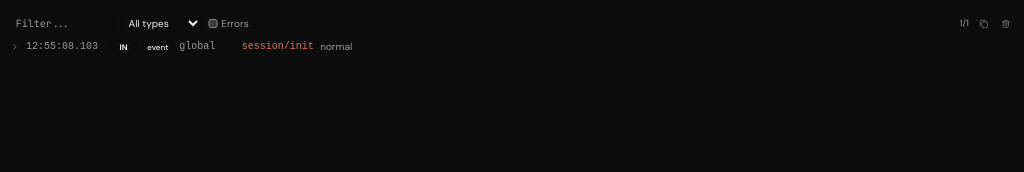
it: ClaudeDebugTab › shows "No matches" when a filter excludes all entries
Type "definitely-not-present-xyz" into the field with placeholder "Filter..." at (62, 23), box [10,15,114,32]
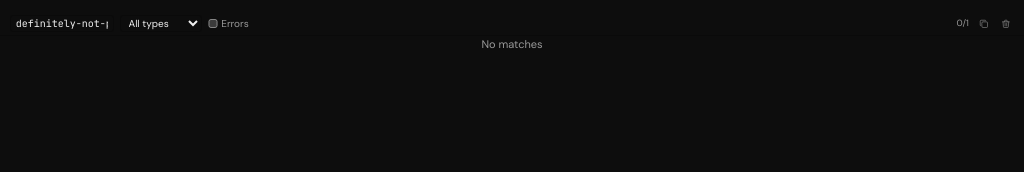
Expected: the text "No matches" is shown, [481,37,543,51]
Expected: the text "0/1" is shown, [957,17,969,30]
